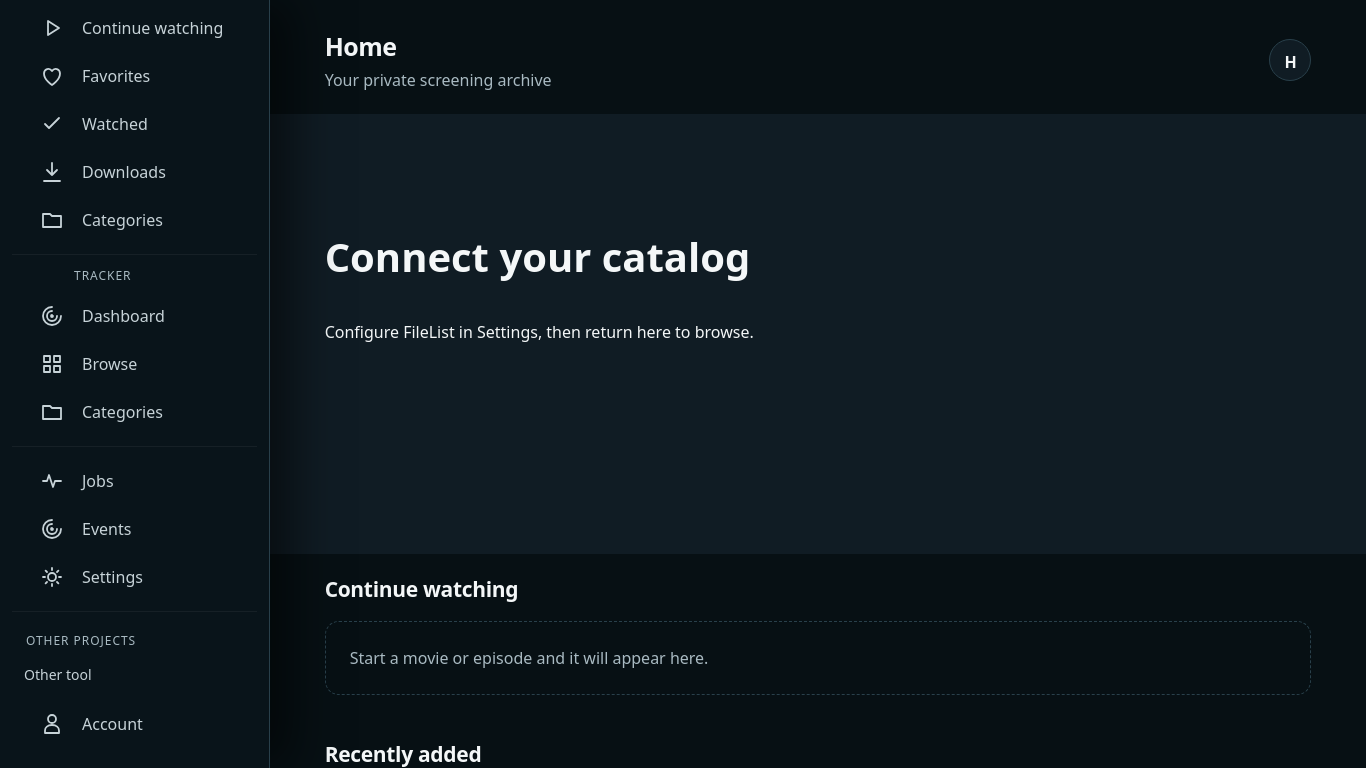
it: account capability gating › capability loss drops the open-flag so a later re-enable does not re-open the dialog
(page scrolled)
Click the button "Account". click: (135, 724)
box: x1=12 y1=700 x2=258 y2=748
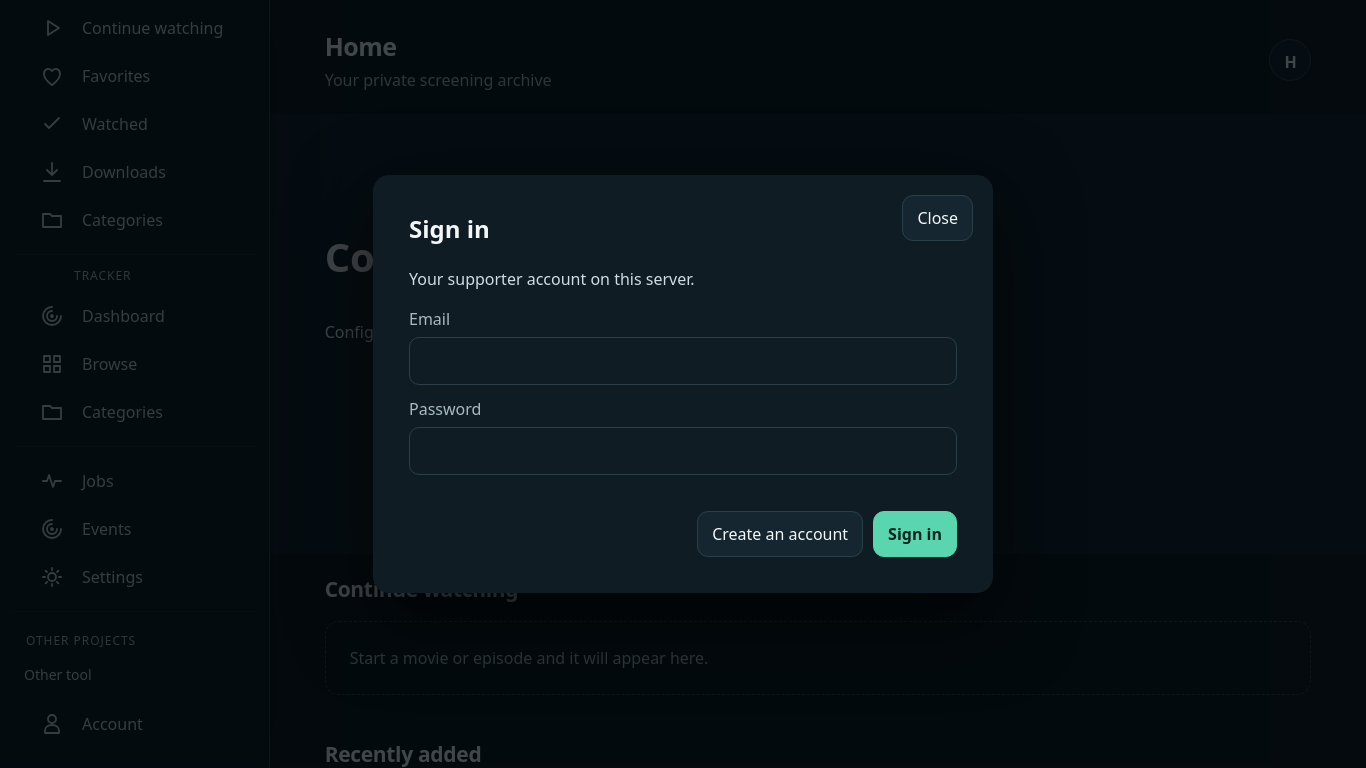
Expected: the dialog named "Account" is shown
